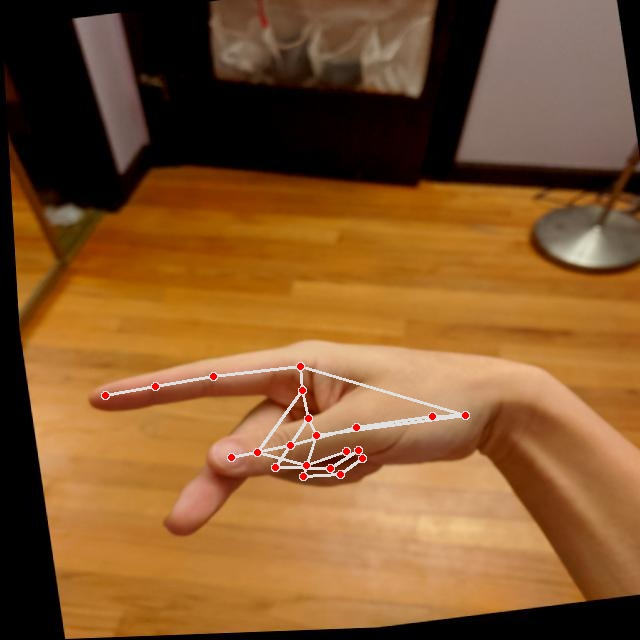P: (70, 317, 487, 552)
